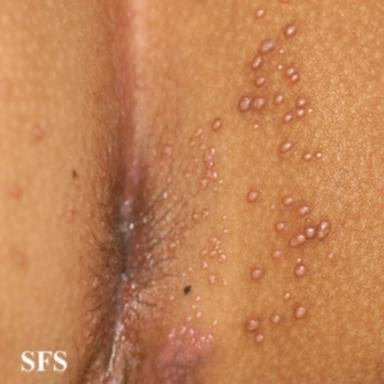Molluscum-Contagiosum: (155, 325, 211, 383), (289, 221, 330, 247), (209, 235, 227, 262), (239, 96, 265, 112), (259, 39, 276, 54), (203, 148, 215, 169), (286, 66, 299, 83), (296, 98, 307, 117), (13, 251, 25, 266), (32, 125, 43, 140), (9, 184, 20, 198), (252, 55, 263, 69), (247, 319, 259, 331), (295, 306, 307, 318), (285, 25, 297, 37), (211, 118, 222, 131), (251, 268, 263, 279), (295, 266, 306, 277), (247, 191, 258, 202), (281, 141, 292, 152), (255, 76, 266, 87), (299, 206, 310, 216), (206, 170, 217, 180), (169, 240, 180, 250), (255, 333, 265, 343), (276, 222, 286, 232), (283, 113, 293, 123), (271, 314, 281, 323), (283, 197, 293, 206), (164, 146, 173, 156), (275, 94, 283, 105), (256, 9, 265, 18), (200, 179, 208, 189), (272, 250, 281, 258), (283, 292, 291, 300), (195, 128, 203, 136), (303, 153, 312, 160), (202, 211, 209, 219), (209, 275, 215, 284), (200, 249, 207, 256), (192, 213, 199, 220), (190, 141, 196, 148), (316, 152, 322, 159), (222, 278, 227, 286), (163, 191, 168, 199), (186, 316, 192, 322), (195, 296, 201, 302), (328, 253, 334, 259), (146, 253, 152, 259), (203, 262, 208, 269), (185, 173, 191, 178), (277, 65, 283, 70), (253, 124, 259, 129), (143, 216, 147, 223), (197, 312, 202, 317), (192, 305, 197, 310), (308, 108, 313, 113), (223, 228, 228, 233), (222, 215, 227, 220), (213, 320, 217, 326), (297, 258, 301, 263), (213, 187, 218, 191), (219, 180, 223, 184), (194, 158, 198, 162), (279, 49, 283, 53), (197, 168, 200, 173)
